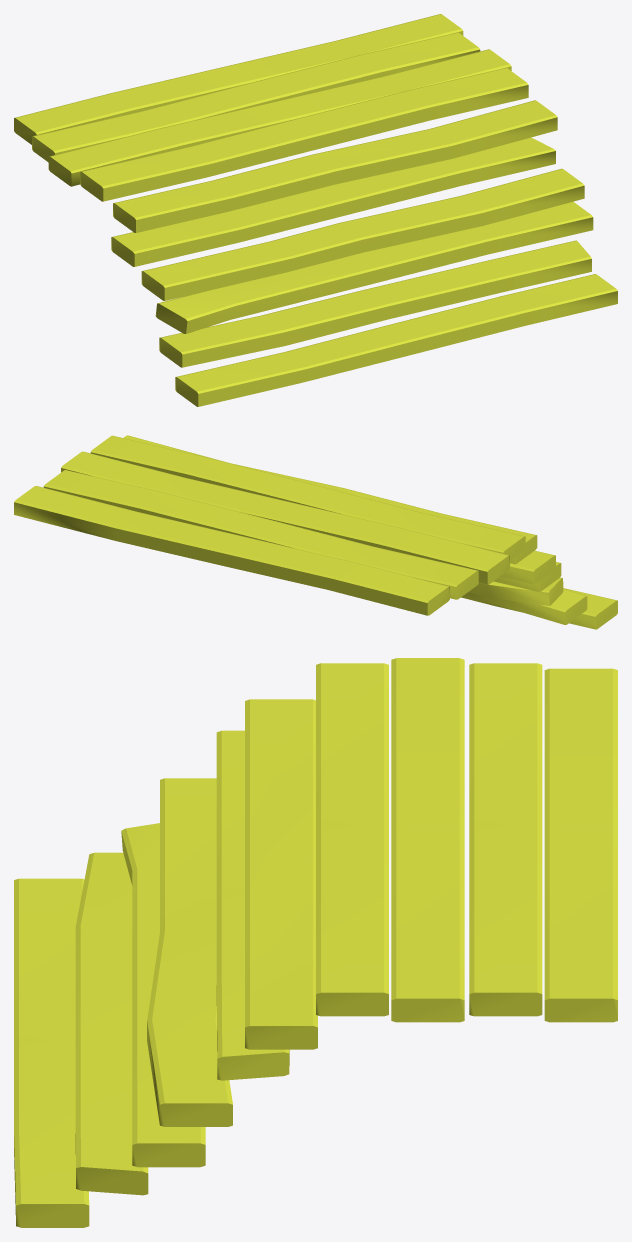
File: ShortStairs.fbx
3 views of the same model, one above another, from view 1: azimuth 30°, elevation 25°; view 2: azimuth 150°, elevation 25°; view 3: azimuth 270°, elevation 25° (orthographic). The views are drawn at different scales.
Visible parts, largest first — view 1: Box038; view 2: Box038; view 3: Box038.
Boxes of the visible parts, left/top/right/bottom form: Box038: left=14, top=14, right=617, bottom=406; Box038: left=14, top=435, right=617, bottom=629; Box038: left=14, top=658, right=617, bottom=1227.
Size of the model in its own units: 90.81 by 121 by 40.33.
